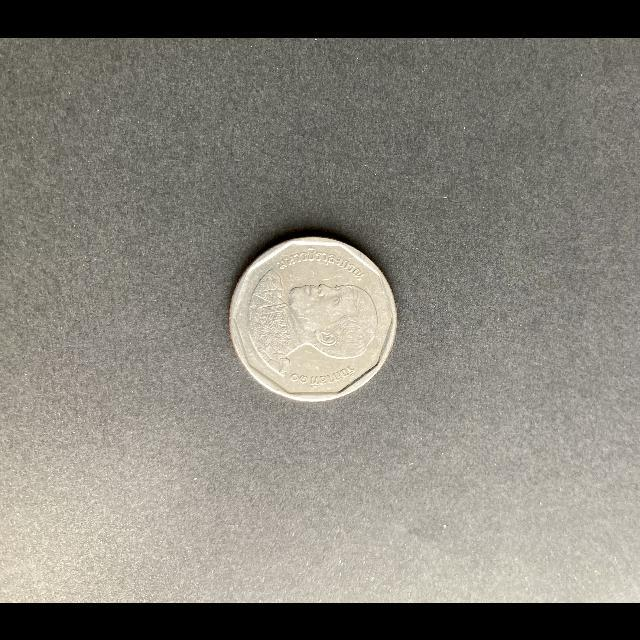5 Bath: (229, 236, 401, 405)
